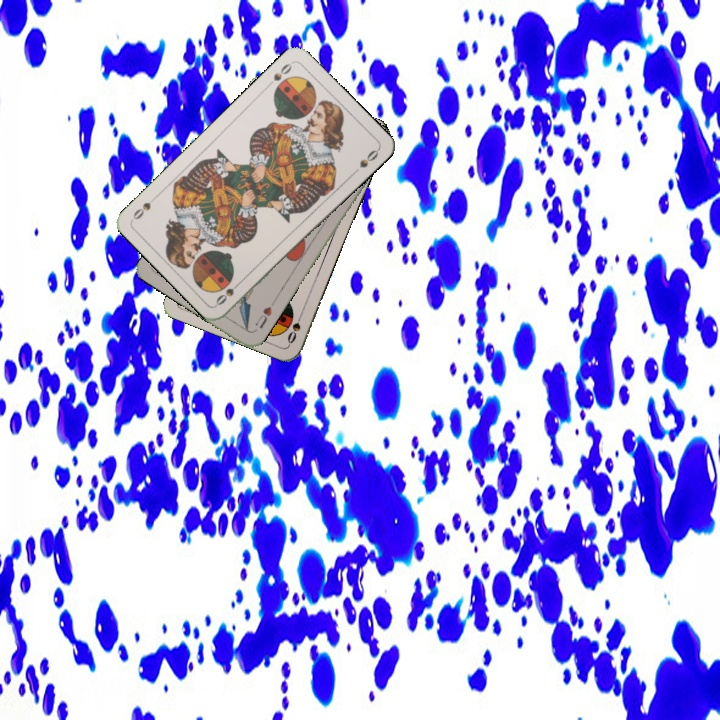HU: (251, 302, 274, 331)
SO: (212, 276, 245, 308), (263, 58, 295, 90), (283, 308, 306, 347)
